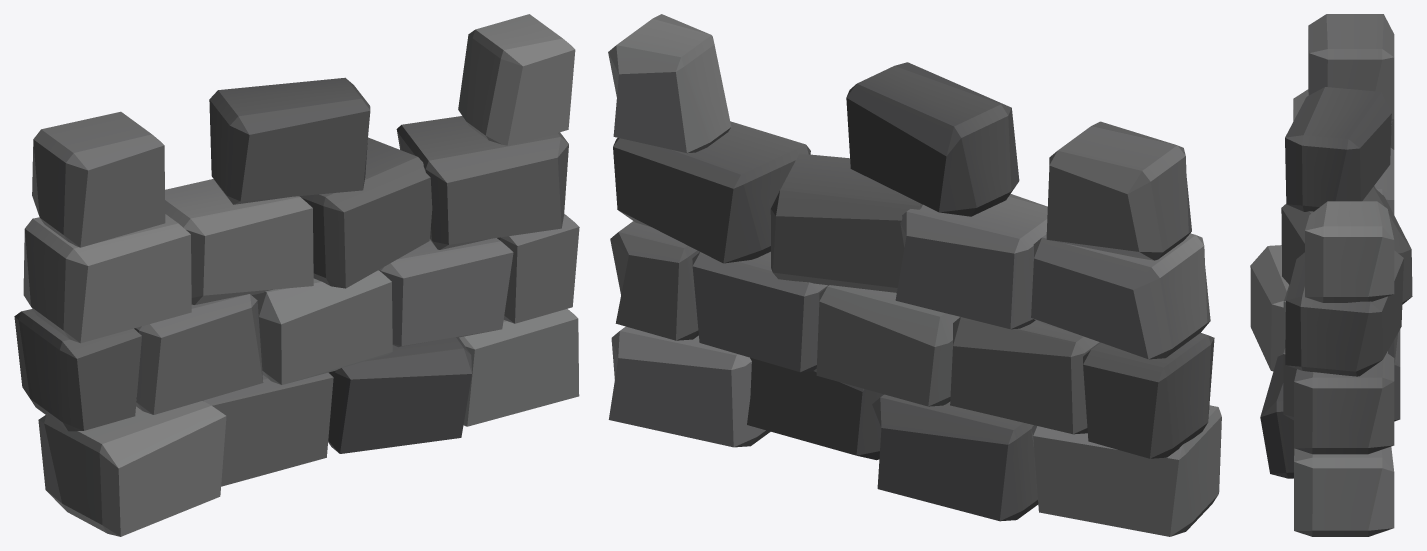
Rendered from Fence_Rock_E.fbx.
3 renders of one model, left to right at view 1: azimuth 30°, elevation 25°; view 2: azimuth 150°, elevation 25°; view 3: azimuth 270°, elevation 25°, orthographic. The views are drawn at different scales.
Parts seen in each view (by area): view 1: Fence_Rock_E; view 2: Fence_Rock_E; view 3: Fence_Rock_E.
Boxes of the visible parts, x1,y1,x2,y2 form: Fence_Rock_E: (14,14,579,536); Fence_Rock_E: (608,14,1221,536); Fence_Rock_E: (1250,14,1412,536).
Bounding box in the file's own units: 224 × 147 × 68.86.
